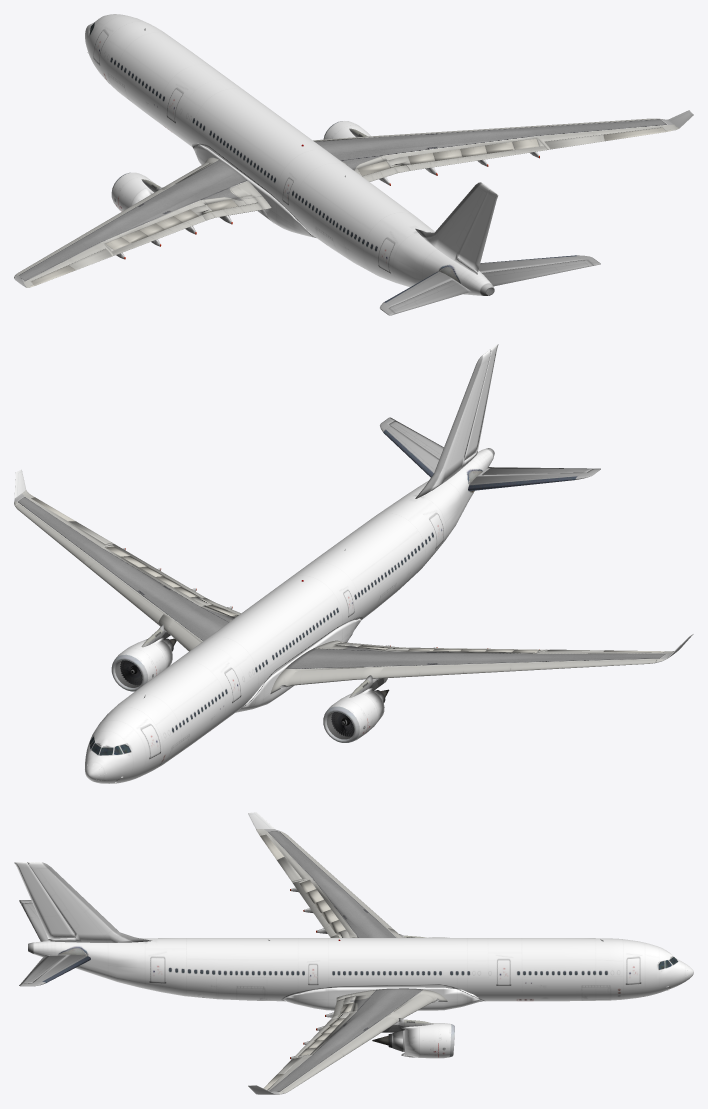
3 views of the same model, one above another, from view 1: azimuth 30°, elevation 25°; view 2: azimuth 150°, elevation 25°; view 3: azimuth 270°, elevation 25° (orthographic). The views are drawn at different scales.
Parts seen in each view (by area): view 1: fuselage_003, cylinder_003, cylinder, wing_in0, vstab, hstab, cylinder_002, cylinder_001, rudder, bellyfairing, wing_in1, elevator1 (+6 smaller); view 2: fuselage_003, cylinder_003, vstab, cylinder, hstab, wing_in0, cylinder_002, cylinder_001, slat_out0, bellyfairing, wing_in1, slat_out1_001 (+8 smaller); view 3: fuselage_003, vstab, cylinder, bellyfairing, cylinder_003, rudder, wing_in1, cylinder_001, ge_nacelle1, cylinder_002, hstab, slat_out1_001 (+2 smaller).
Boxes of the visible parts, x1,y1,x2,y2 form: fuselage_003: (85,14,494,295); cylinder_003: (361,127,548,160); cylinder: (89,183,204,255); wing_in0: (174,157,271,209); vstab: (415,182,490,274); hstab: (380,255,600,315); cylinder_002: (525,118,679,149); cylinder_001: (14,233,112,287); rudder: (458,189,498,271); bellyfairing: (192,143,315,237); wing_in1: (314,137,387,169); elevator1: (482,260,593,286); fuselage_003: (85,448,494,783); cylinder_003: (89,543,204,631); vstab: (415,349,491,498); cylinder: (360,649,546,679); hstab: (380,417,600,491); wing_in0: (270,640,386,694); cylinder_002: (14,490,112,556); cylinder_001: (525,649,673,663); slat_out0: (378,663,524,678); bellyfairing: (236,618,360,712); wing_in1: (174,605,234,642); slat_out1_001: (84,557,163,624); fuselage_003: (28,938,680,1001); vstab: (27,862,151,942); cylinder: (292,878,400,937); bellyfairing: (283,987,483,1010); cylinder_003: (293,1009,403,1058); rudder: (14,862,75,938); wing_in1: (336,988,447,1011); cylinder_001: (256,829,332,882); ge_nacelle1: (419,1023,451,1058); cylinder_002: (256,1054,332,1094); hstab: (19,900,90,986); slat_out1_001: (333,1017,396,1058).
Size of the model in its own units: 59.91 by 63.05 by 15.52.
